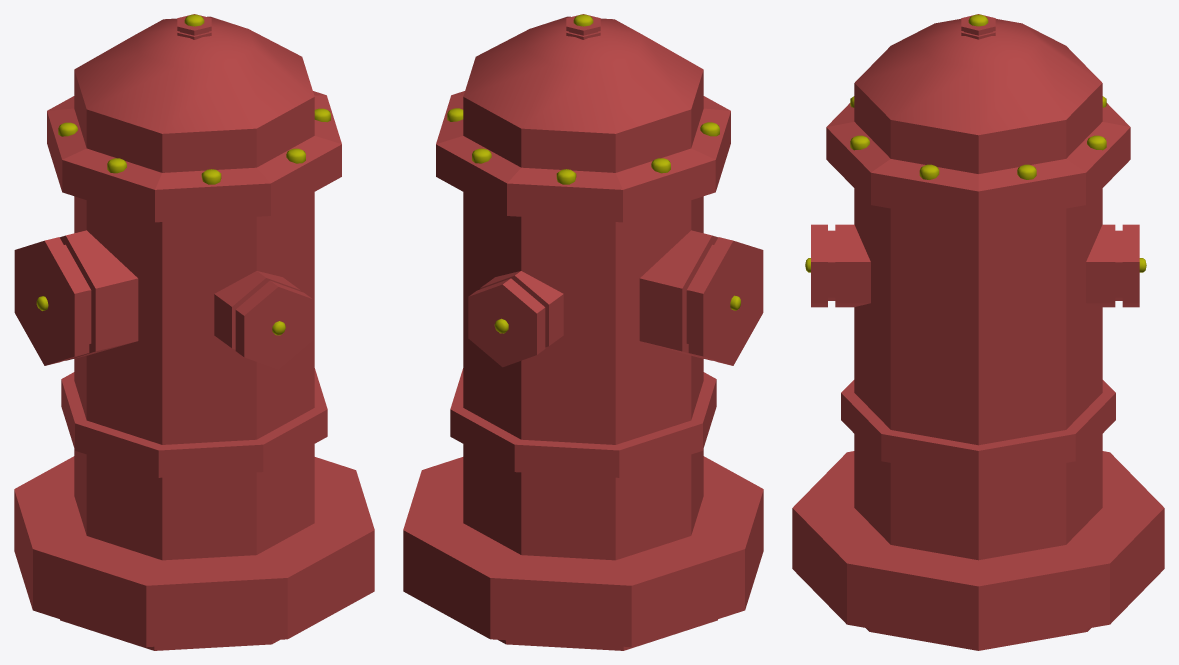
File: fire_hydrant.fbx
The picture shows the model from 3 angles, left to right: view 1: azimuth 30°, elevation 25°; view 2: azimuth 150°, elevation 25°; view 3: azimuth 270°, elevation 25°; orthographic projection.
Visible parts, largest first — view 1: fire_hydrant; view 2: fire_hydrant; view 3: fire_hydrant.
Boxes of the visible parts, x1,y1,x2,y2 form: fire_hydrant: (14, 14, 374, 650); fire_hydrant: (403, 14, 763, 650); fire_hydrant: (792, 14, 1164, 650).
Size of the model in its own units: 108 by 182 by 108.
